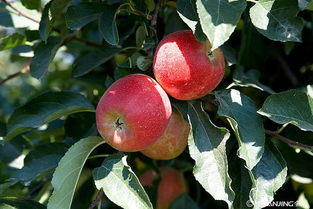apple: (95, 73, 174, 155)
obscured(1)_apple: (151, 29, 236, 102)
